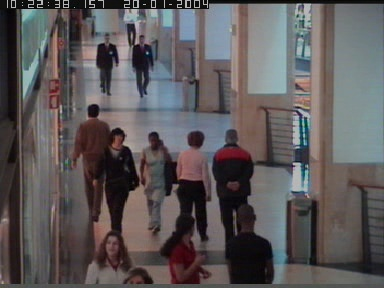person: (92, 127, 140, 239), (212, 128, 254, 243), (70, 104, 108, 222), (174, 132, 210, 246), (225, 203, 274, 283), (137, 131, 175, 233), (160, 212, 212, 283), (83, 230, 132, 284), (131, 35, 154, 98), (96, 34, 118, 95), (123, 9, 137, 47)
